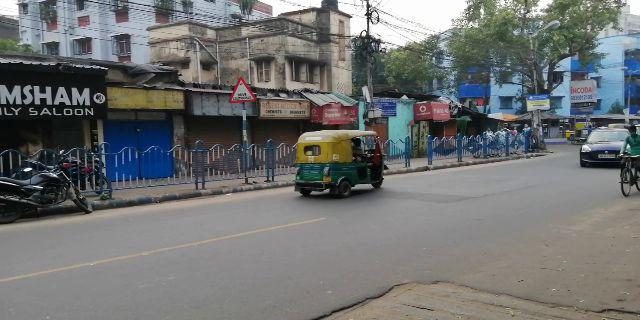Autorickshaw: (297, 132, 391, 204)
Car: (579, 127, 633, 171)
Motorbike: (1, 155, 94, 225)
